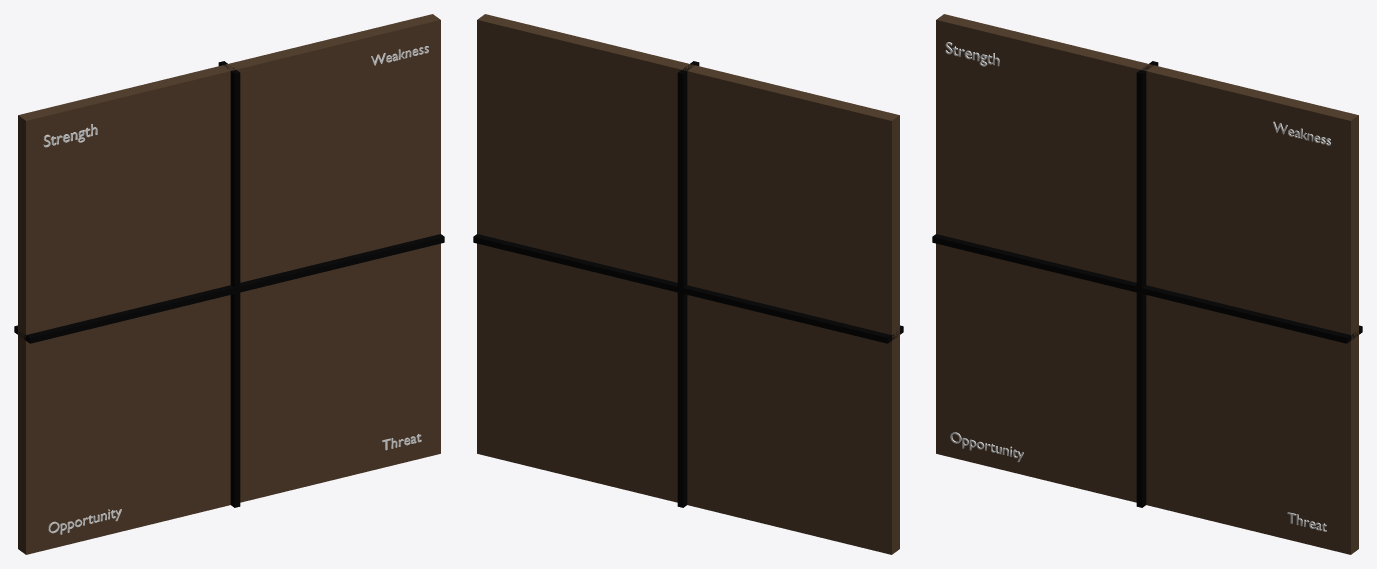
The model's file is SWOT.glb.
The picture shows the model from 3 angles, left to right: view 1: azimuth 30°, elevation 25°; view 2: azimuth 150°, elevation 25°; view 3: azimuth 330°, elevation 25°; orthographic projection.
Visible parts, largest first — view 1: Board, Line1.001, Line1.004; view 2: Board, Line1.001, Line1.004; view 3: Board, Line1.001, Line1.004.
Part boxes in pixels (x1,y1,x2,y2): Board: (18,14,440,554); Line1.001: (218,61,240,507); Line1.004: (14,234,444,343); Board: (477,14,899,554); Line1.001: (677,61,699,507); Line1.004: (473,234,903,343); Board: (936,14,1358,554); Line1.001: (1136,61,1158,507); Line1.004: (932,234,1362,343).
Size of the model in its own units: 3 by 3 by 0.205.
